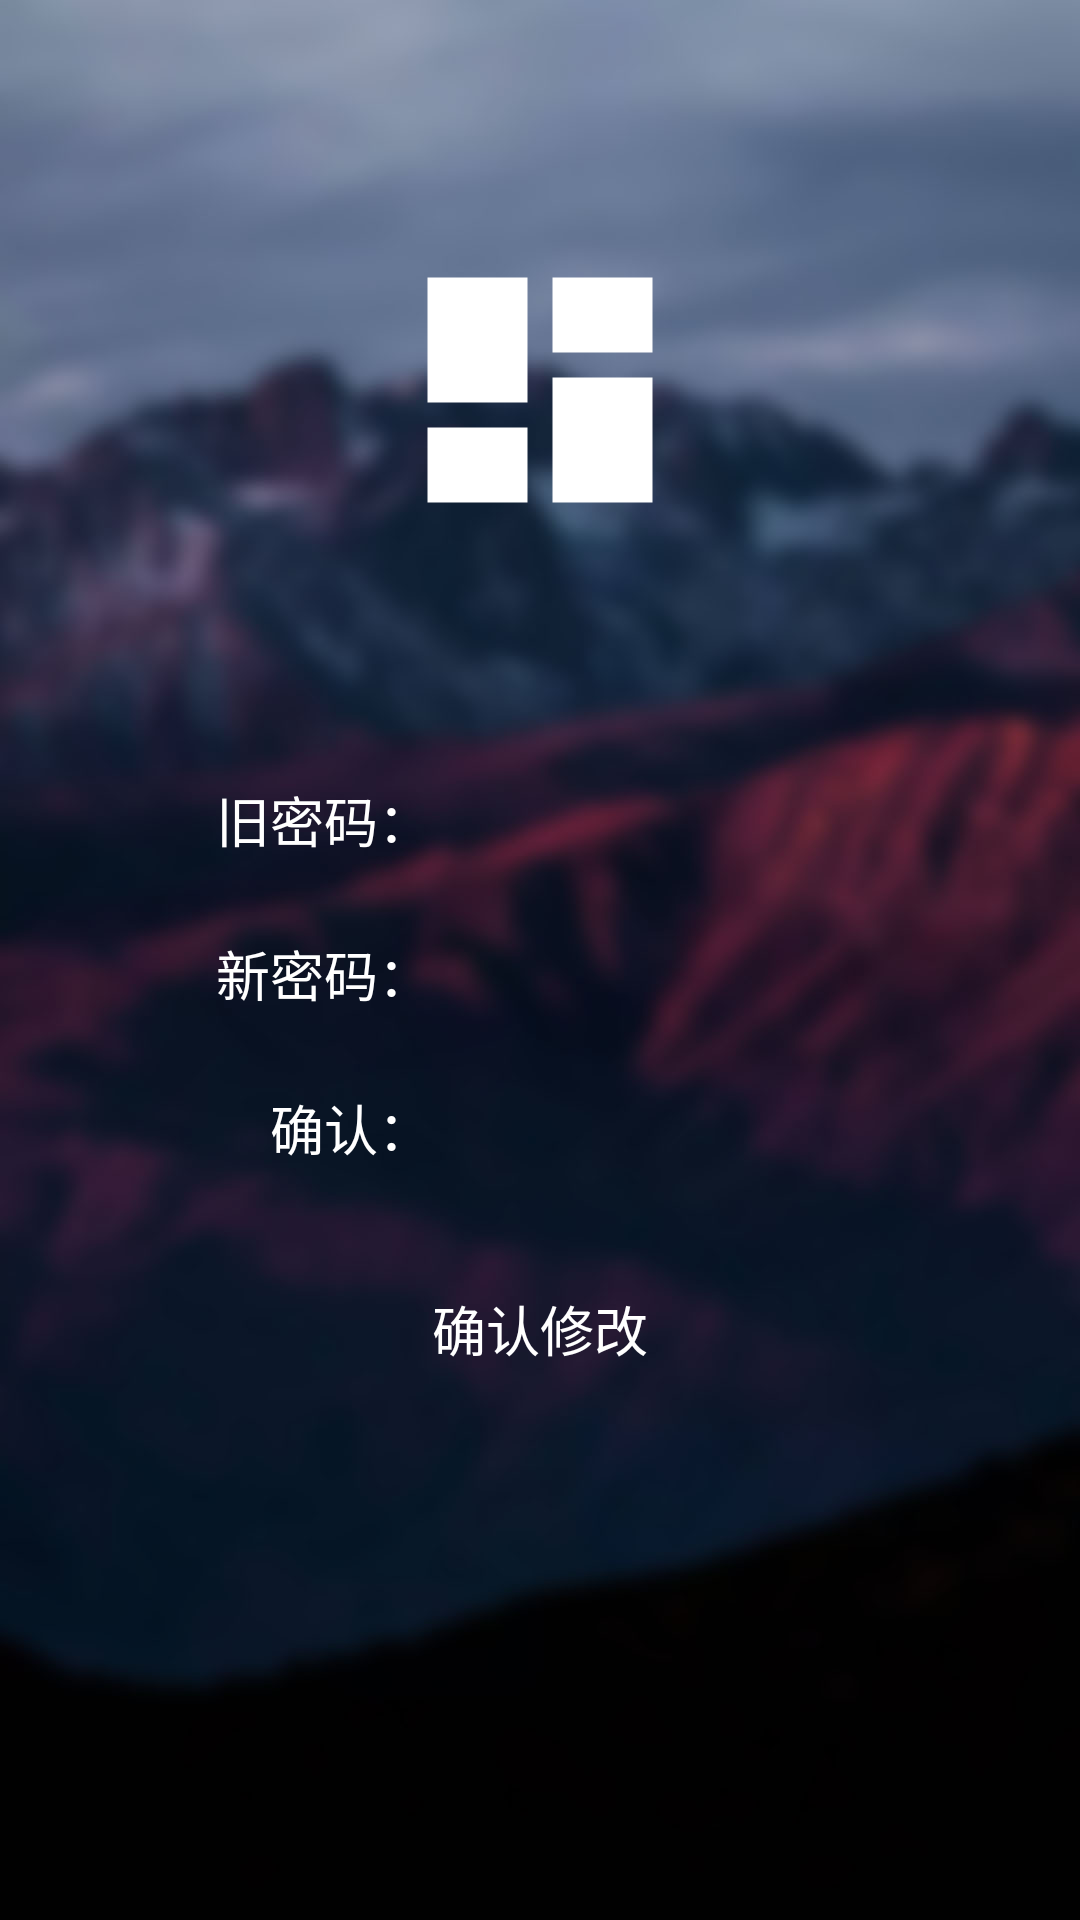

Where to tap for icons on this 1080*1920 app screen, as point (x, y):
dashboard: point (540, 390)
